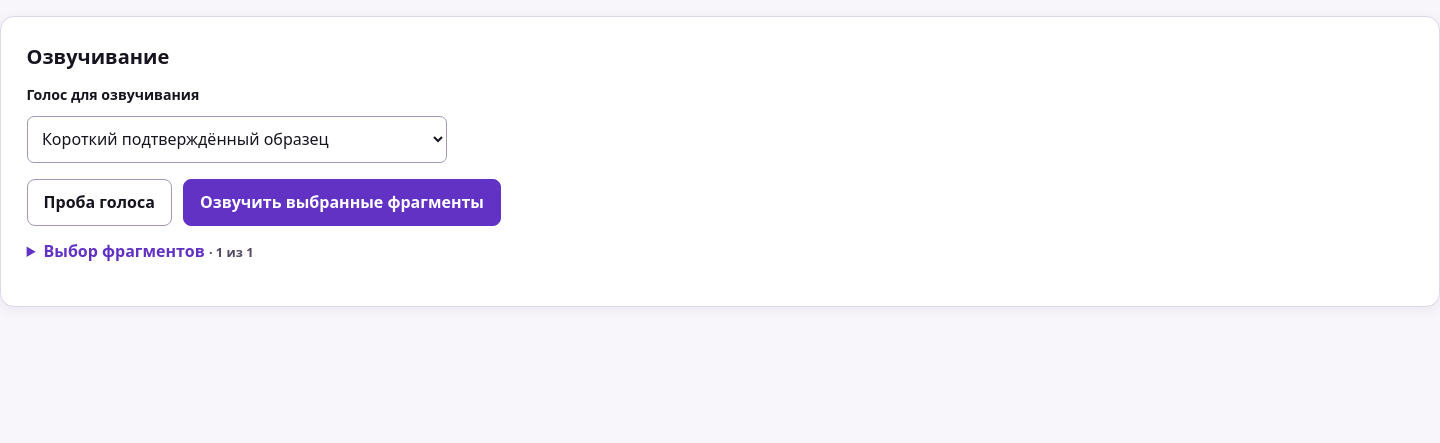
blocks the selected saved model if its binding disappears without silently falling back
The width and height of the screenshot is (1440, 443).
Later steps or results of the test are not shown.
Select "Версия 1 · шаг 125 · эпоха 1" in the dropdown labelled "Голос для озвучивания": (237,139) 27,116 -> 447,163
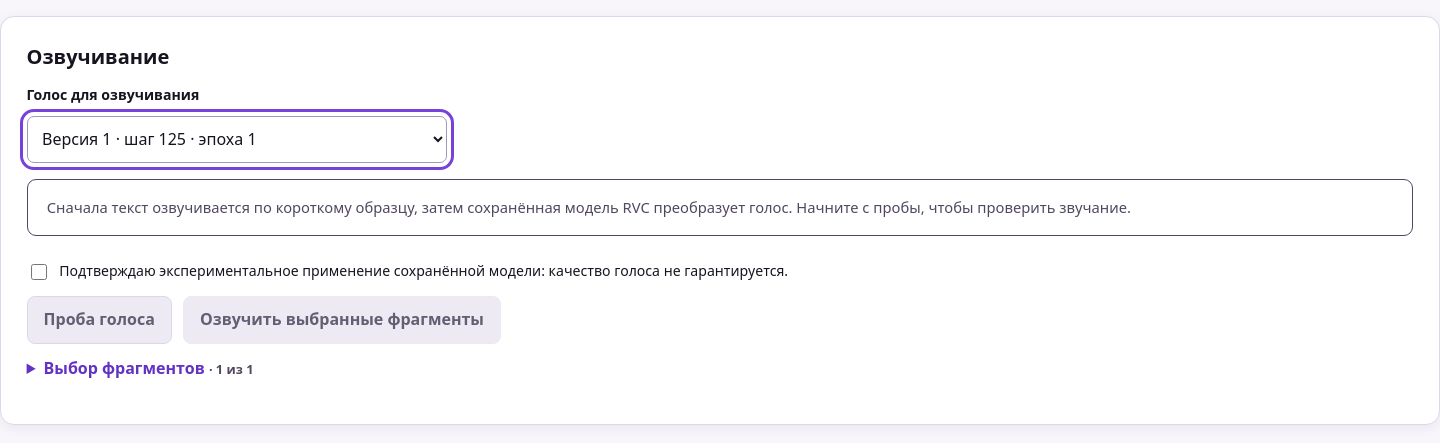
Click the checkbox labelled "Подтверждаю экспериментальное применение сохранённой модели": (39,272) 31,264 -> 47,280
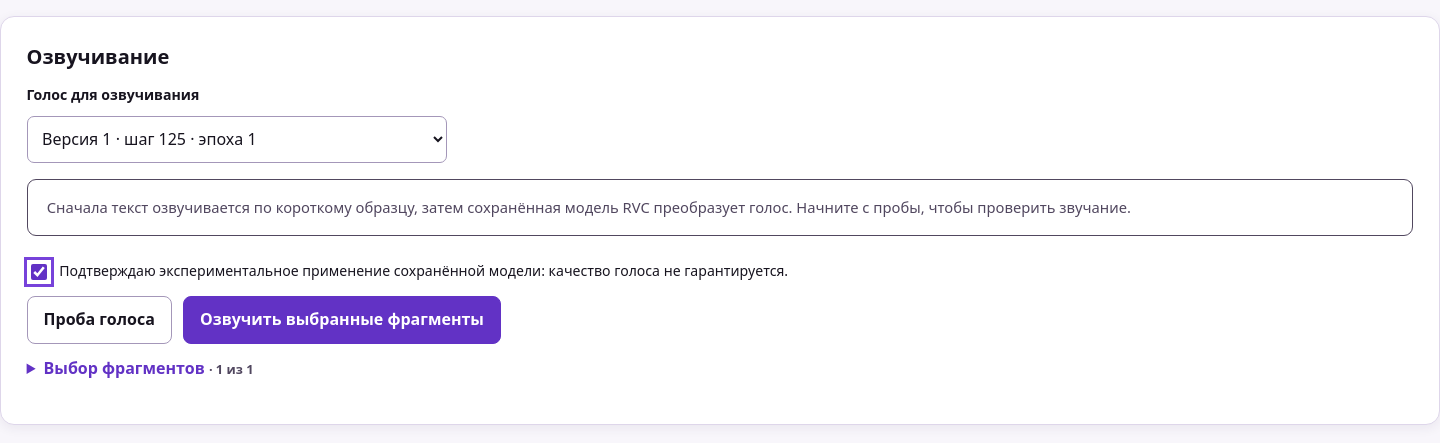
Result: the button "Проба голоса" is enabled at 27,296 -> 172,344
